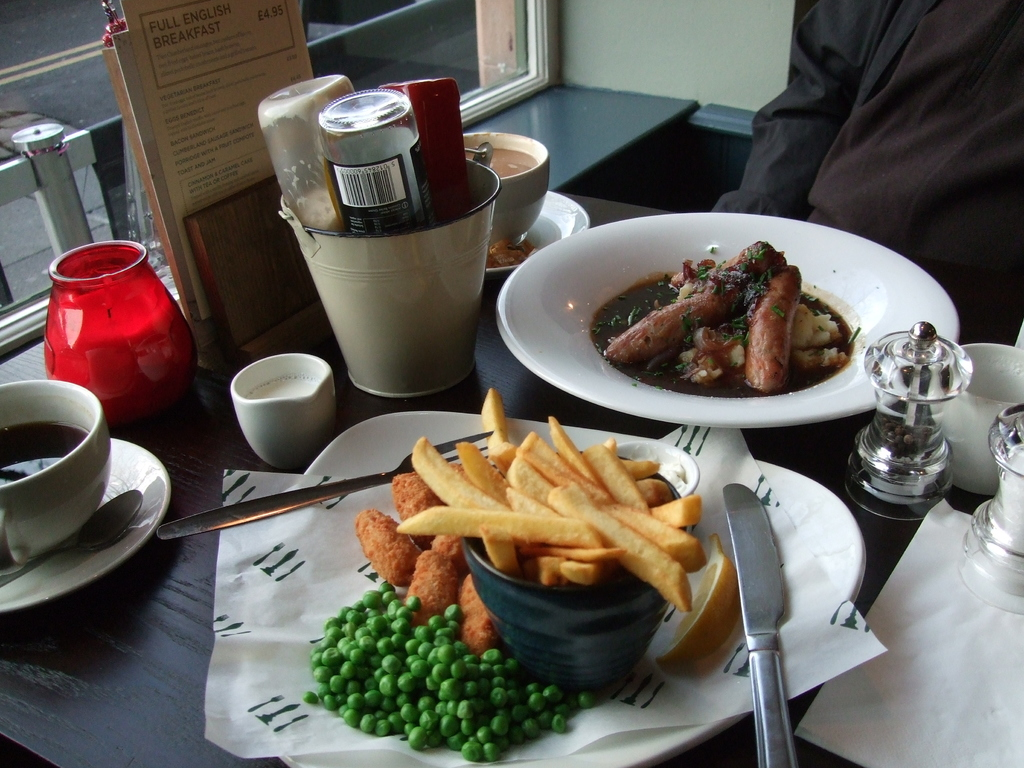French fries: (392, 382, 709, 616)
